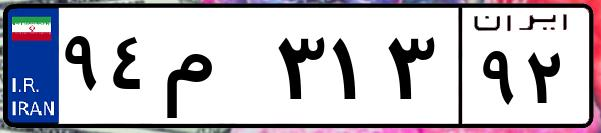1: (330, 28, 385, 110)
2: (525, 38, 570, 115)
3: (270, 28, 330, 110), (385, 28, 445, 110)
4: (110, 28, 158, 98)
9: (57, 26, 110, 100), (475, 38, 525, 113)
م: (158, 20, 270, 120)
